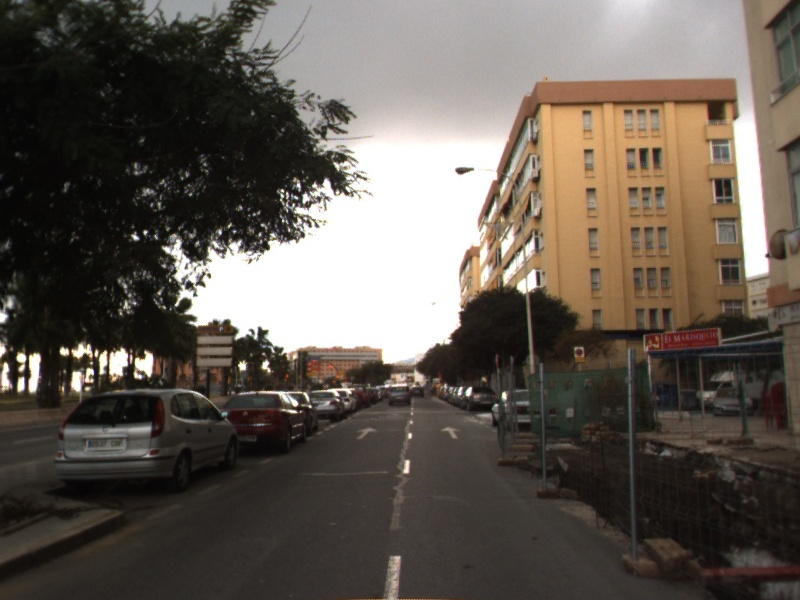STRAIGHT: (440, 424, 463, 440), (355, 426, 379, 440)
